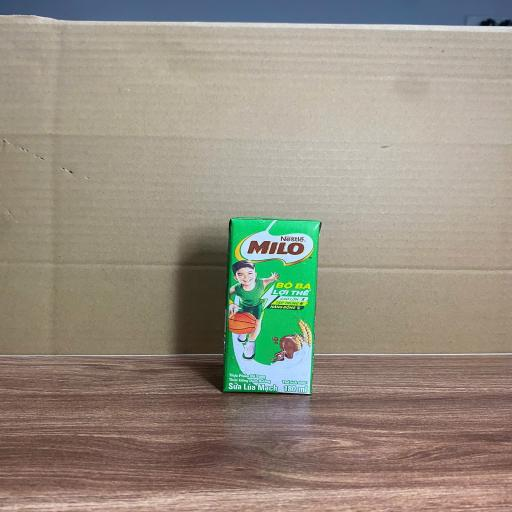milo: (230, 218, 316, 393)
